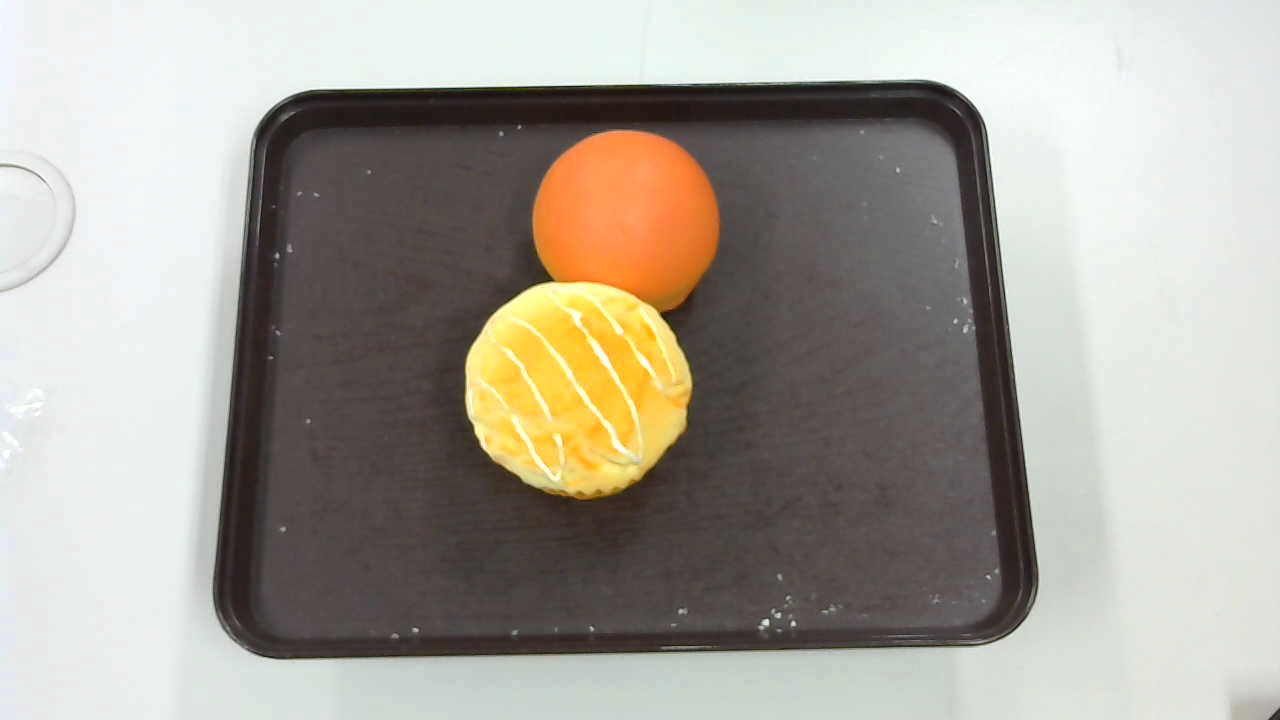bun: (531, 129, 719, 314)
cupcake: (464, 281, 693, 497)
